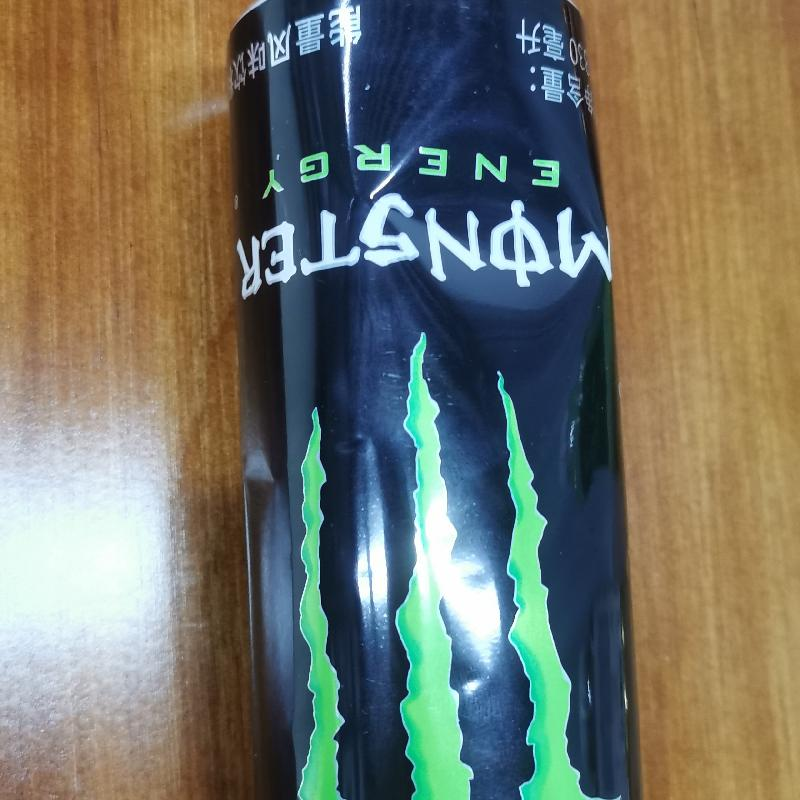cans: (193, 0, 643, 799)
